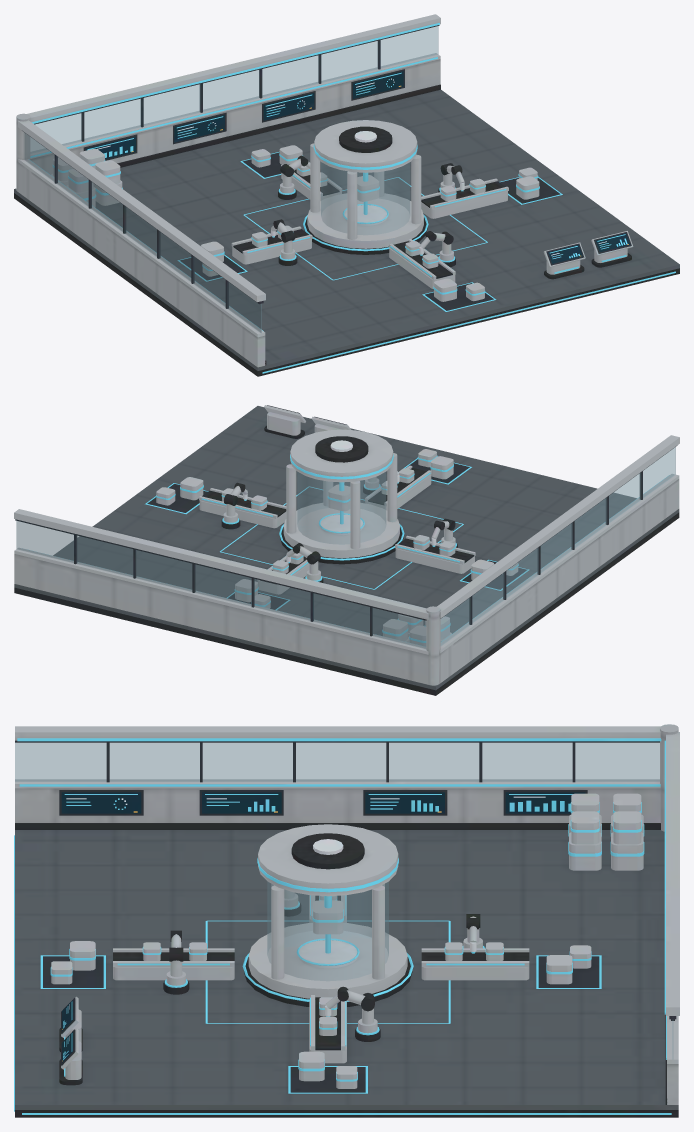
Rendered from enterprise_factory.glb.
3 views of the same model, one above another, from view 1: azimuth 30°, elevation 25°; view 2: azimuth 150°, elevation 25°; view 3: azimuth 270°, elevation 25° (orthographic). The views are drawn at different scales.
Visible parts, largest first — view 1: te_enterprise_factory; view 2: te_enterprise_factory; view 3: te_enterprise_factory.
Boxes of the visible parts, x1=… form: te_enterprise_factory: x1=14, y1=14, x2=679, y2=376; te_enterprise_factory: x1=14, y1=405, x2=679, y2=695; te_enterprise_factory: x1=14, y1=724, x2=679, y2=1117.
Size of the model in its own units: 2.85 by 0.66 by 2.85.
2 materials, 1 textured.
